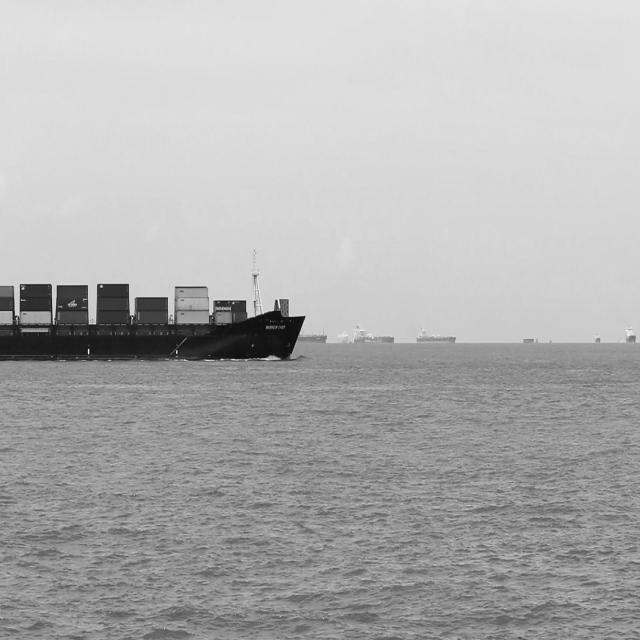ship: (0, 243, 307, 361), (356, 316, 398, 344), (415, 322, 462, 344), (290, 325, 331, 343), (622, 319, 640, 347), (522, 328, 542, 351), (336, 323, 353, 347), (593, 325, 607, 345)
